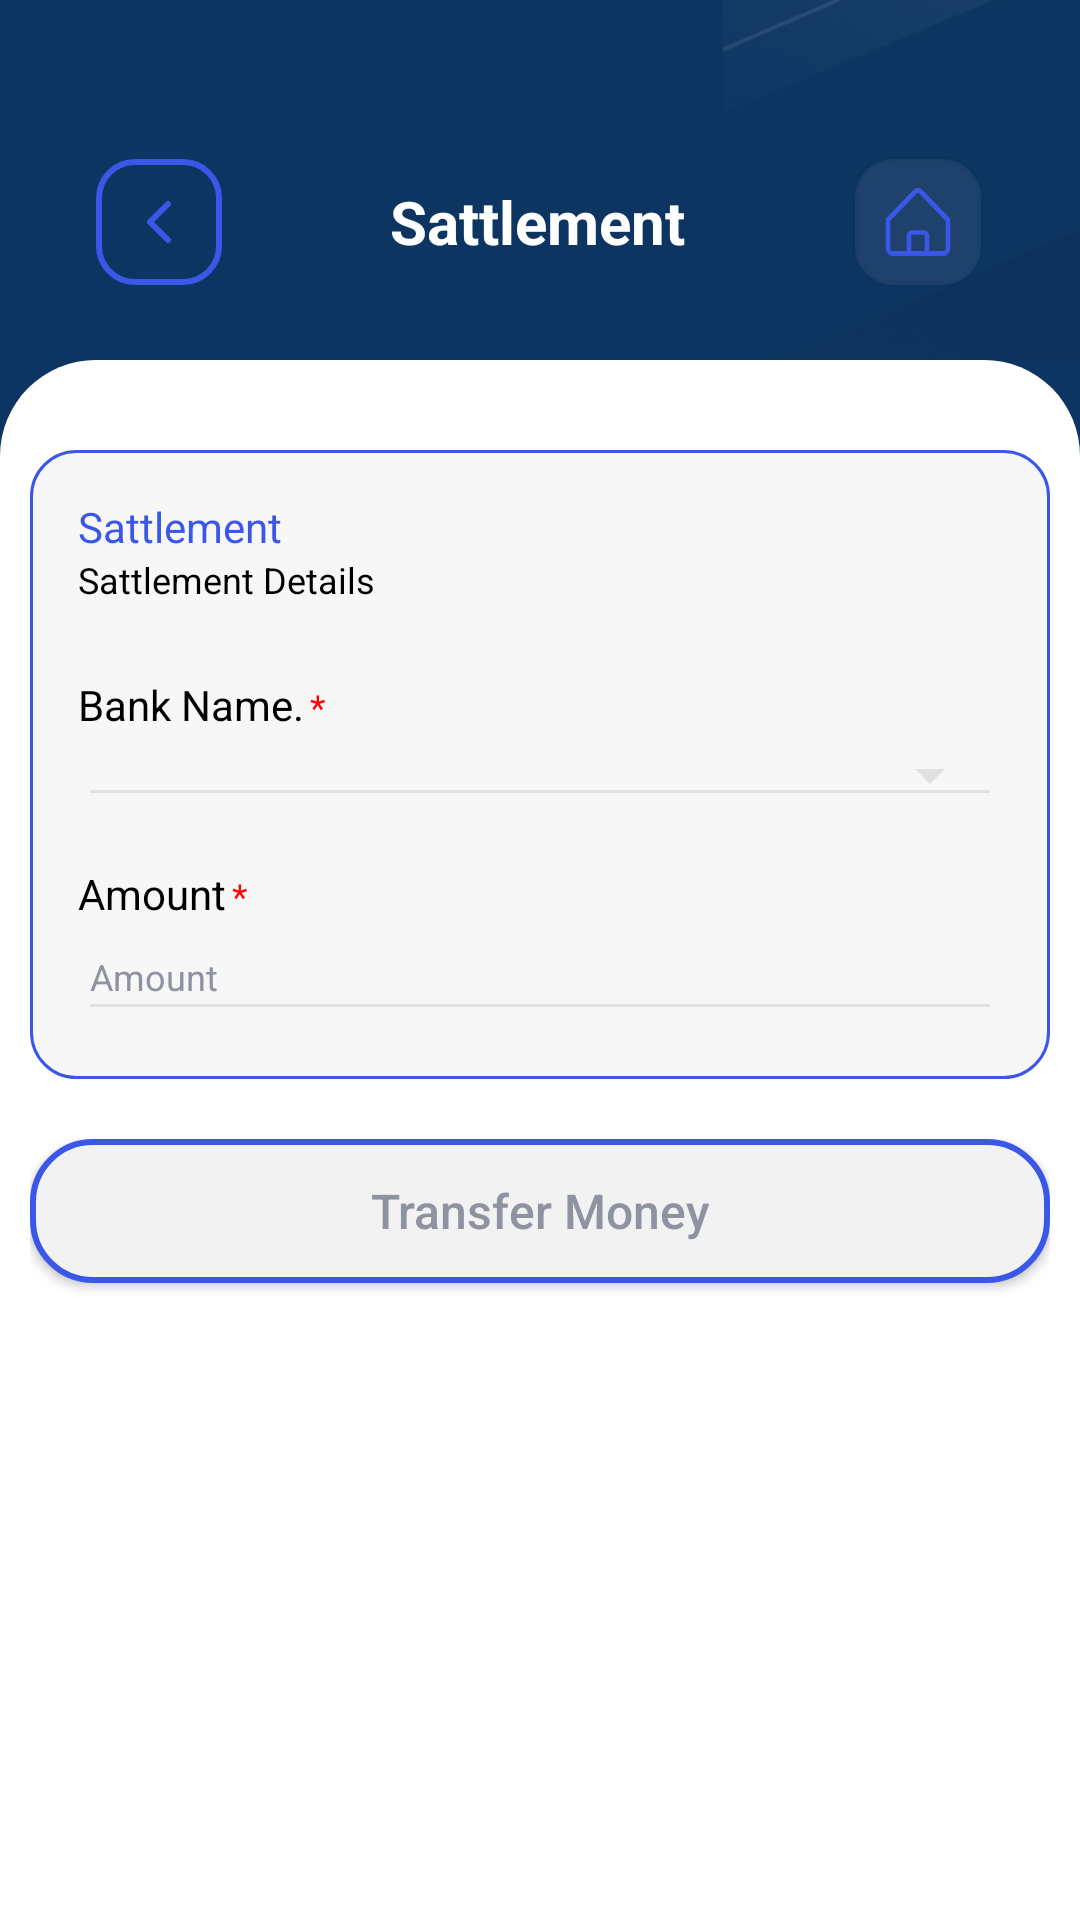

Icon click points for this 1080×1920 phone screenshot, format [x,y]:
back: [159,222]
home: [918,222]
